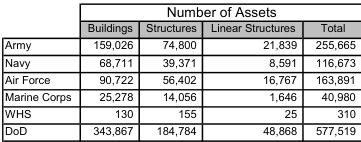table: (4, 3, 354, 136)
table column: (202, 3, 305, 136), (4, 3, 78, 136), (138, 3, 202, 136), (78, 3, 138, 136), (305, 3, 354, 136)
table column header: (4, 3, 354, 36)
table row: (4, 3, 354, 20), (4, 36, 354, 53), (4, 53, 354, 70), (4, 70, 354, 87), (4, 87, 354, 104), (4, 104, 354, 121), (4, 20, 354, 36), (4, 121, 354, 136)
table spanning cell: (78, 3, 354, 20)
